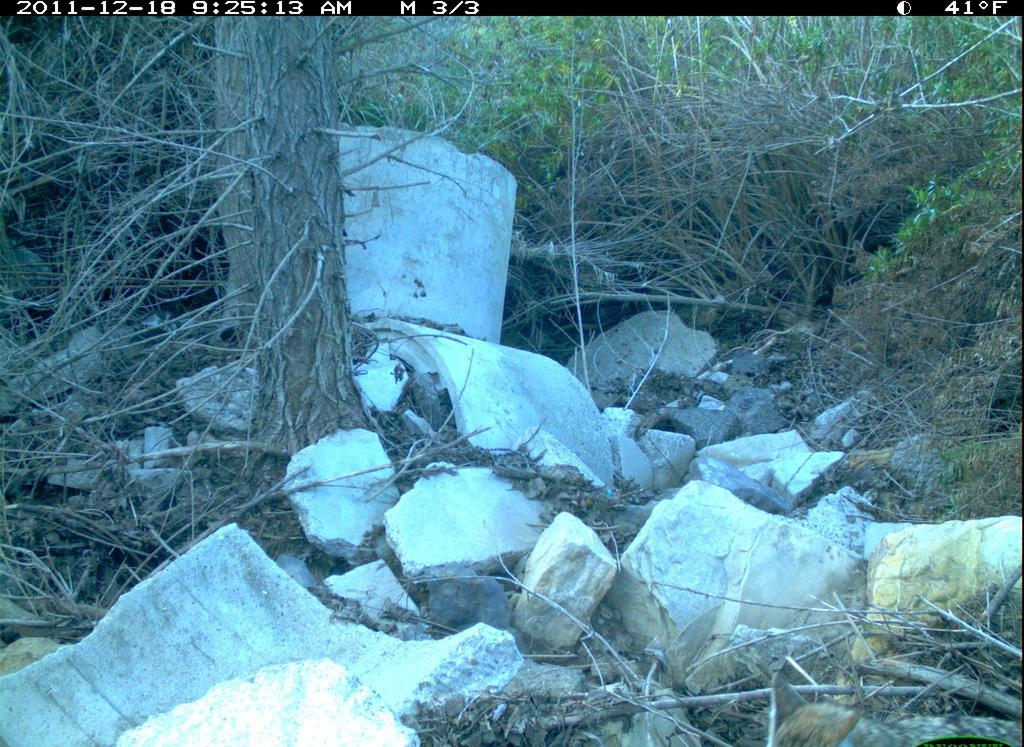coyote: (731, 664, 1023, 747)
